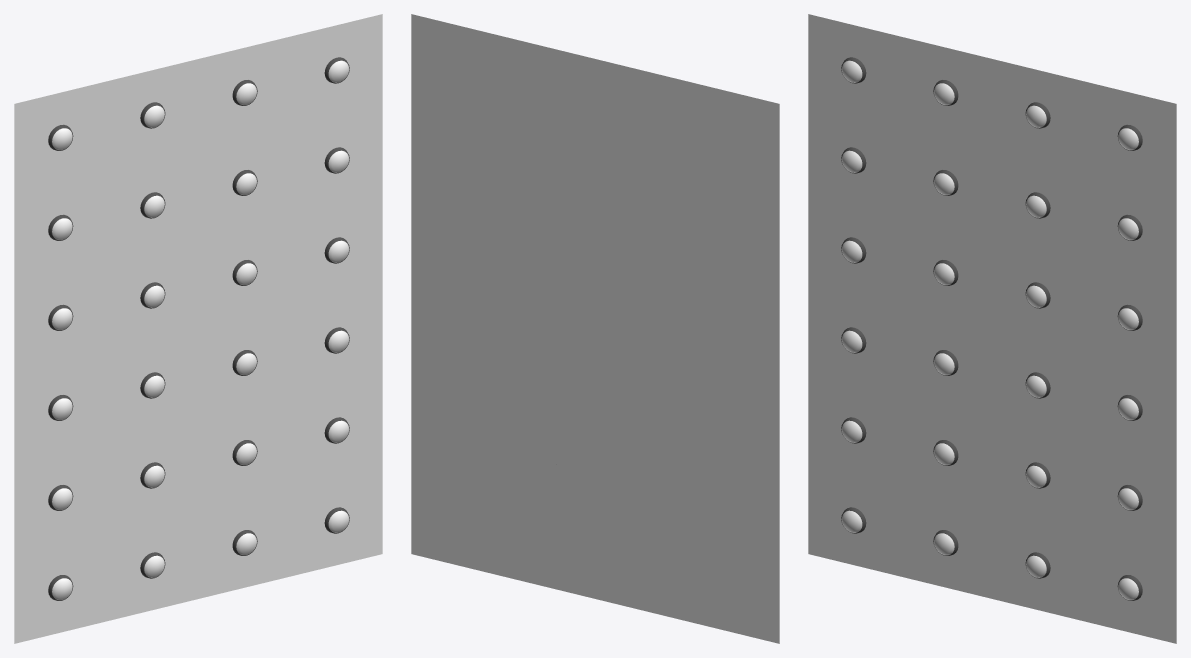
File: PanelLight02.FBX
3 renders of one model, left to right at view 1: azimuth 30°, elevation 25°; view 2: azimuth 150°, elevation 25°; view 3: azimuth 330°, elevation 25°, orthographic.
Parts seen in each view (by area): view 1: PanelLight02; view 2: PanelLight02; view 3: PanelLight02.
Part boxes in pixels (x1,y1,x2,y2): PanelLight02: (14,14,382,643); PanelLight02: (411,14,779,643); PanelLight02: (808,14,1176,643).
Bounding box in the file's own units: 250 × 350 × 5.23.
